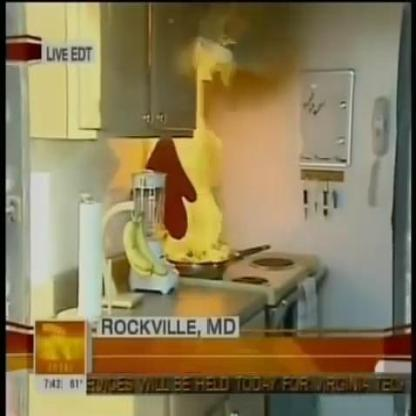fire: (152, 140, 230, 262), (197, 42, 252, 140)
